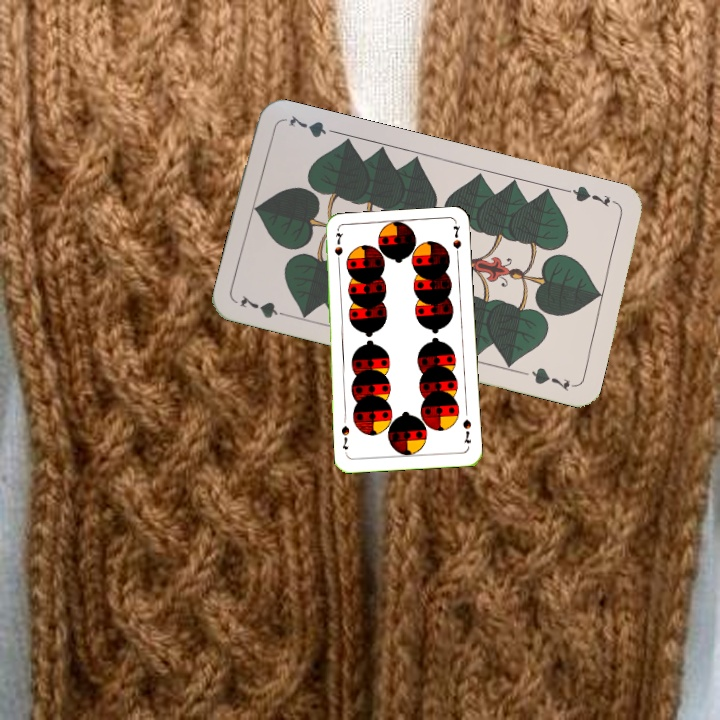G7: (236, 291, 294, 321), (562, 181, 613, 210)
S7: (331, 229, 345, 268), (459, 415, 474, 446)
